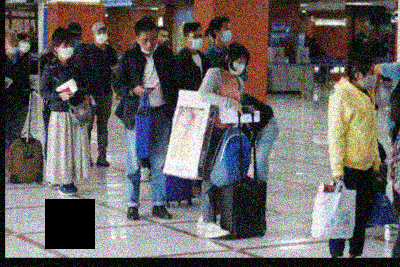mask_weared_incorrect: (139, 34, 156, 56), (5, 34, 19, 54)
with_mask: (362, 68, 377, 89), (229, 56, 245, 73), (189, 30, 203, 49), (59, 41, 72, 60), (219, 23, 231, 42), (94, 28, 107, 44), (19, 37, 30, 53)
without_mask: (157, 31, 168, 48)
